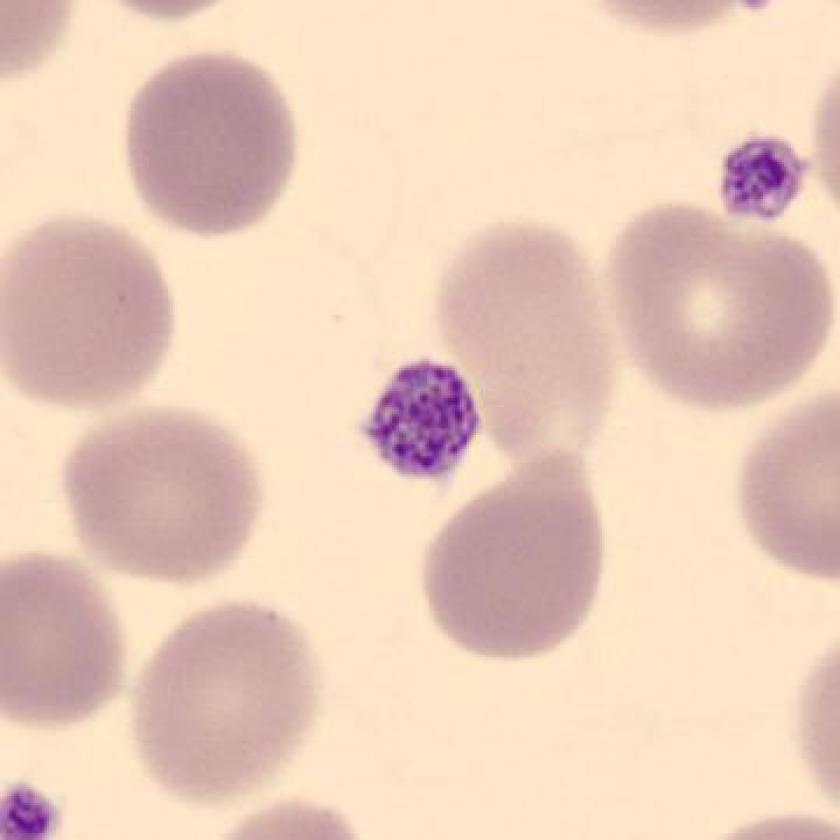platelets: (358, 351, 486, 497), (713, 128, 813, 228), (1, 774, 69, 840)
